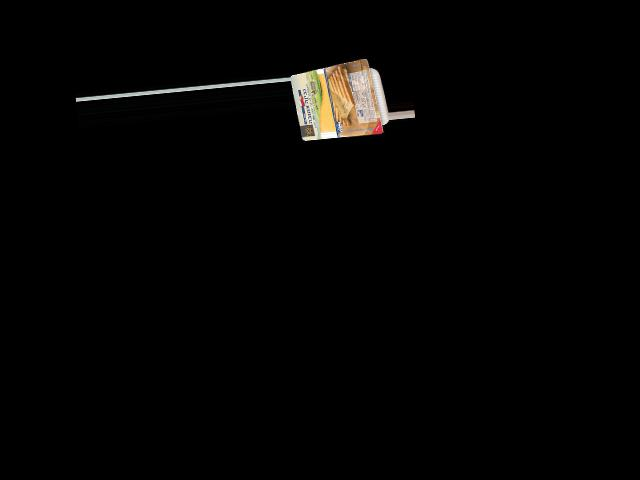cheese: (290, 59, 390, 138)
